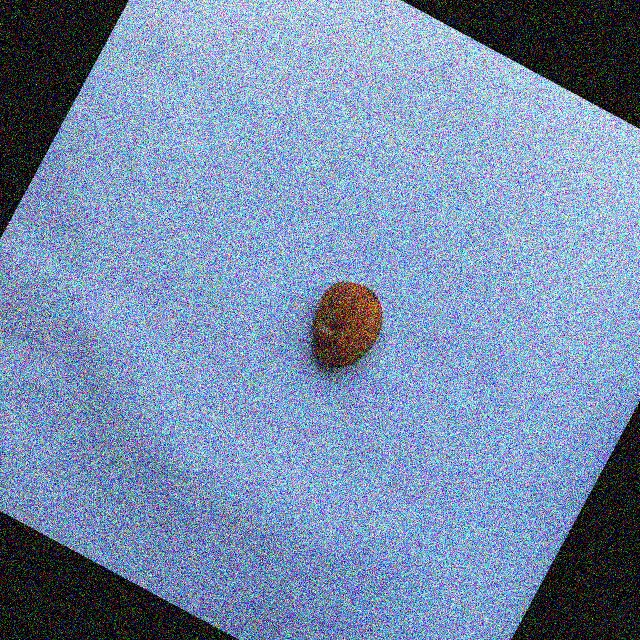grade3: (287, 265, 400, 387)
